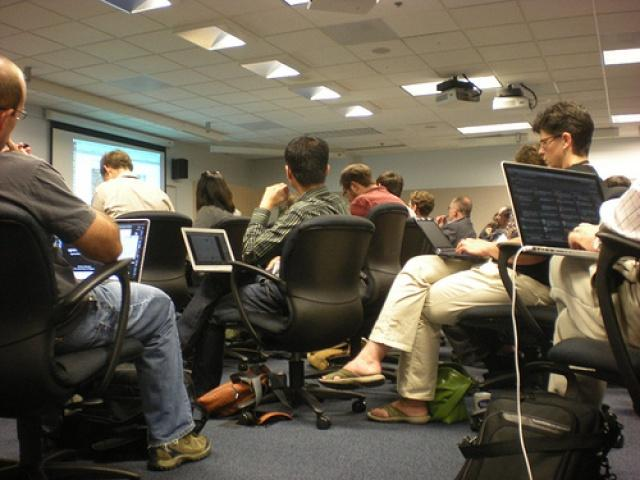Kursi: (227, 214, 375, 429)
